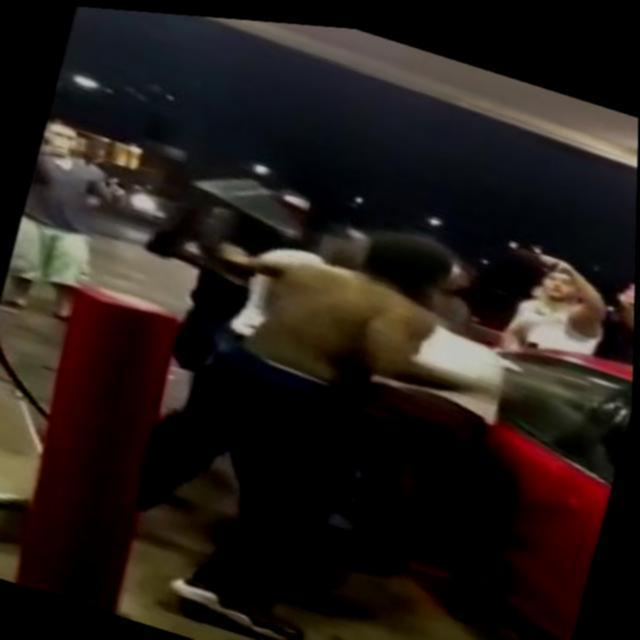fight: (126, 160, 538, 640)
